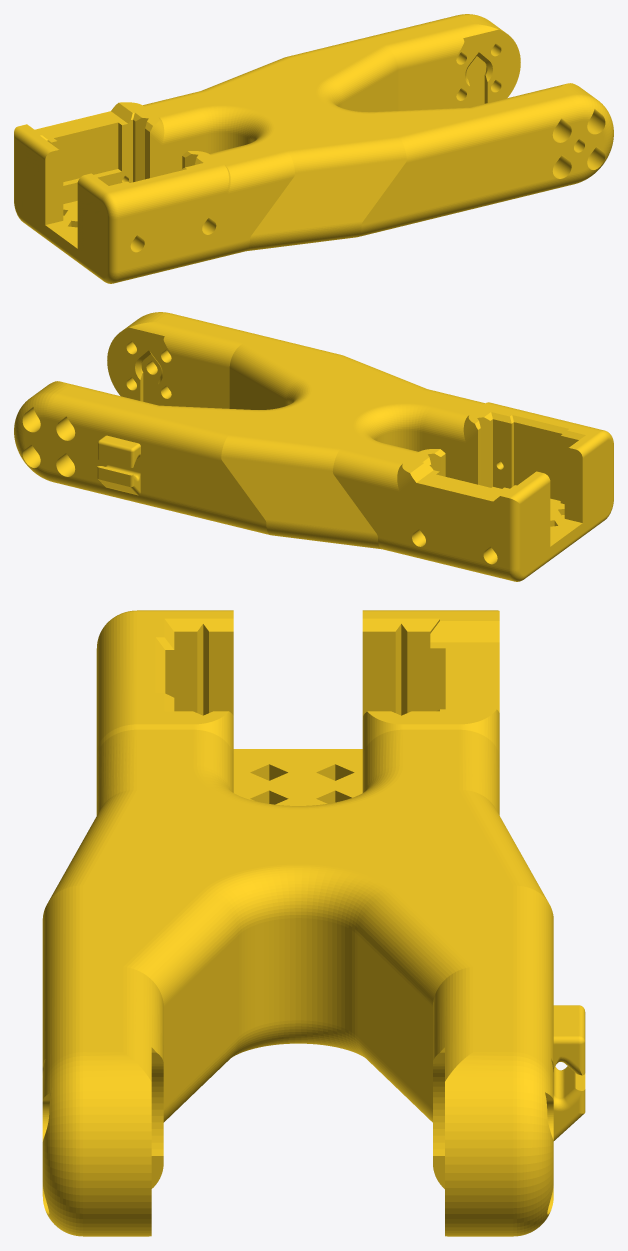
Rendered from upper_arm_visuals_upper_arm_so101_v1_mesh.obj.
3 renders of one model, top to bottom at view 1: azimuth 30°, elevation 25°; view 2: azimuth 150°, elevation 25°; view 3: azimuth 270°, elevation 25°, orthographic. The views are drawn at different scales.
Size of the model in its own units: 0.1422 by 0.0245 by 0.0673.
